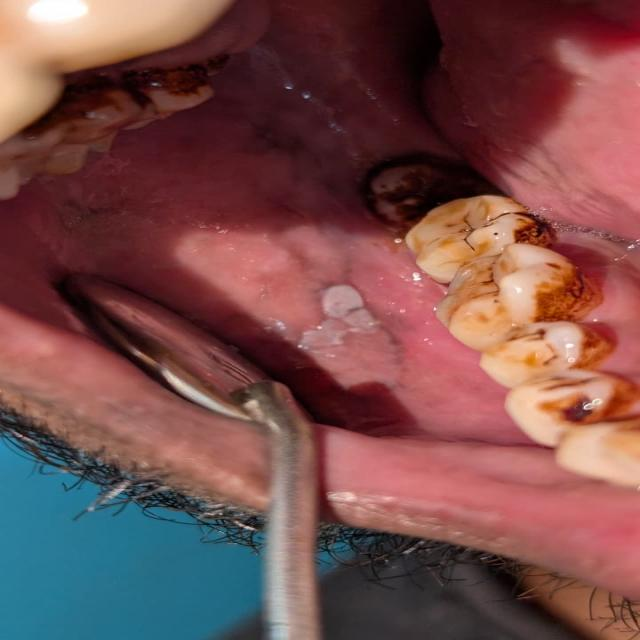leukoplakia-detection: (243, 213, 442, 417)
processing_area: (0, 2, 639, 447)
